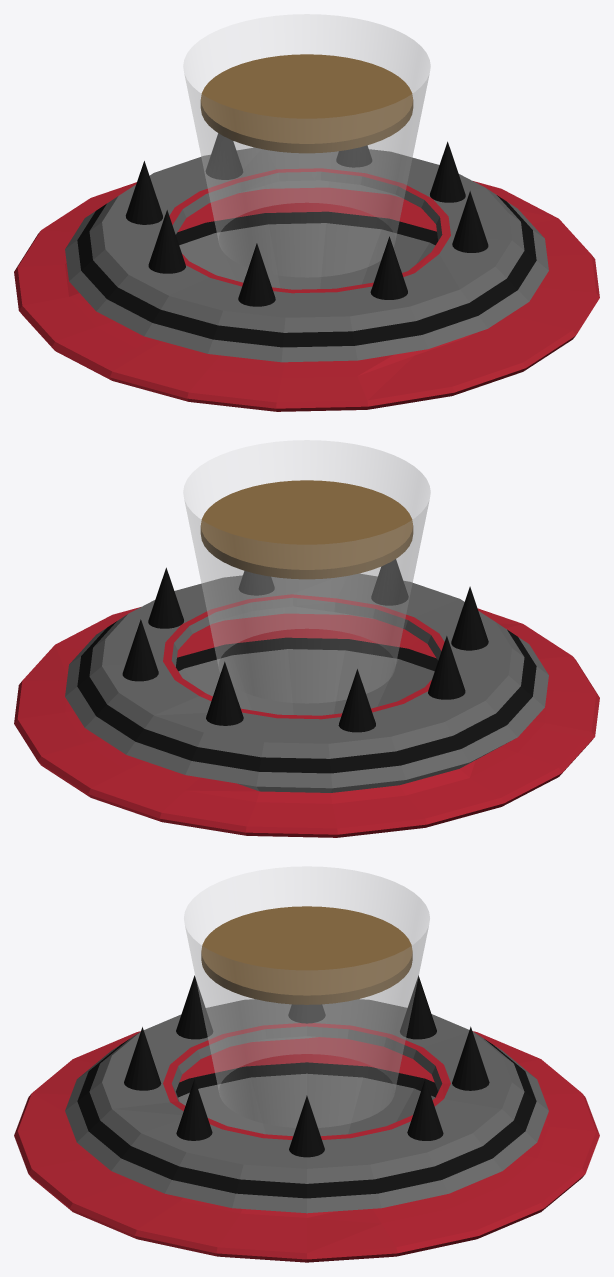
The model's file is glm53_t03.glb.
3 views of the same model, one above another, from view 1: azimuth 30°, elevation 25°; view 2: azimuth 150°, elevation 25°; view 3: azimuth 270°, elevation 25° (orthographic).
Visible parts, largest first — view 1: slot_anchor_saucer, cover_cylinder, brown_disc; view 2: slot_anchor_saucer, cover_cylinder, brown_disc; view 3: slot_anchor_saucer, cover_cylinder, brown_disc.
Part boxes in pixels (box(x1,y1,x2,y2)): slot_anchor_saucer: box(14, 133, 599, 411); cover_cylinder: box(183, 14, 430, 277); brown_disc: box(200, 54, 413, 153); slot_anchor_saucer: box(14, 559, 599, 837); cover_cylinder: box(183, 440, 430, 703); brown_disc: box(200, 480, 413, 579); slot_anchor_saucer: box(14, 975, 599, 1262); cover_cylinder: box(184, 866, 429, 1127); brown_disc: box(201, 906, 412, 1004).
Size of the model in its own units: 2 by 1.16 by 2.
3 materials, 1 textured.
